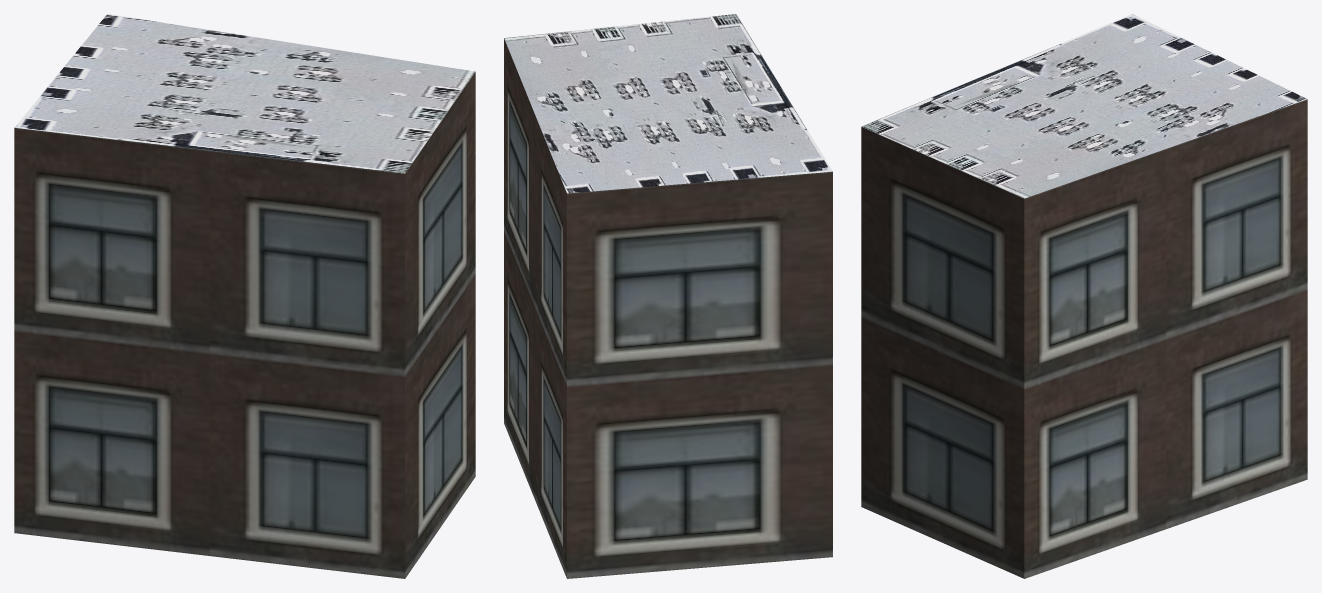
File: ResTex__4519.fbx
3 renders of one model, left to right at view 1: azimuth 30°, elevation 25°; view 2: azimuth 150°, elevation 25°; view 3: azimuth 270°, elevation 25°, orthographic. The views are drawn at different scales.
Parts seen in each view (by area): view 1: CityEngineMaterial_16_m, CityEngineMaterial_15_m; view 2: CityEngineMaterial_16_m, CityEngineMaterial_15_m; view 3: CityEngineMaterial_16_m, CityEngineMaterial_15_m.
Boxes of the visible parts, box(x1,y1,x2,y2) form: CityEngineMaterial_16_m: box(14, 72, 475, 578); CityEngineMaterial_15_m: box(14, 14, 475, 173); CityEngineMaterial_16_m: box(504, 38, 832, 578); CityEngineMaterial_15_m: box(504, 14, 832, 193); CityEngineMaterial_16_m: box(861, 99, 1307, 578); CityEngineMaterial_15_m: box(861, 14, 1307, 198).
Bounding box in the file's own units: 6.25 × 6 × 6.39.
Materials: 2 (2 with a texture image).
